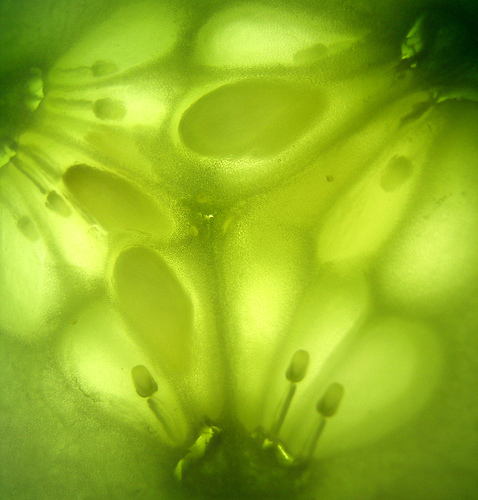cucumber: (0, 0, 476, 498)
